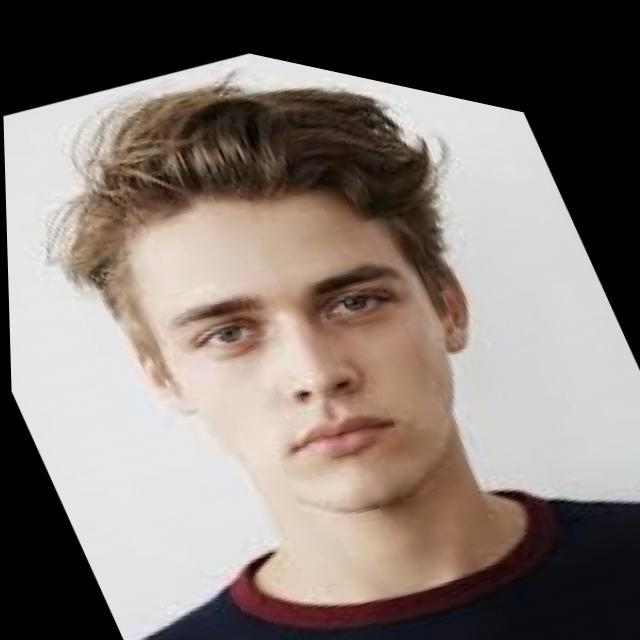Nonhelmet: (46, 76, 479, 517)
